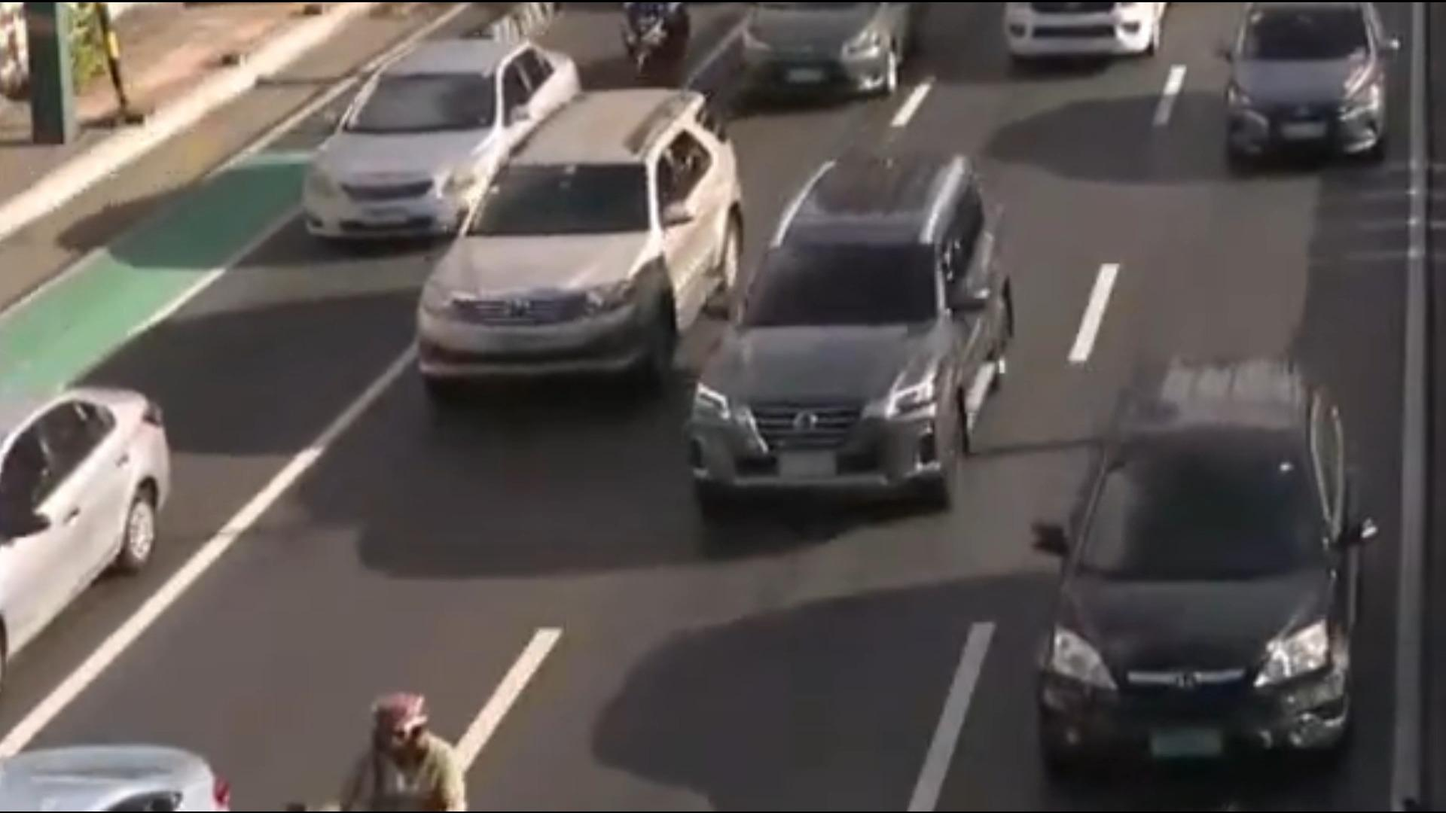Motorcycle: (319, 670, 520, 801), (612, 2, 712, 71)
SUV: (1012, 345, 1416, 813), (668, 142, 1040, 542), (381, 80, 801, 382)
Sedan: (256, 27, 601, 273), (0, 367, 207, 636), (1203, 0, 1403, 179)
